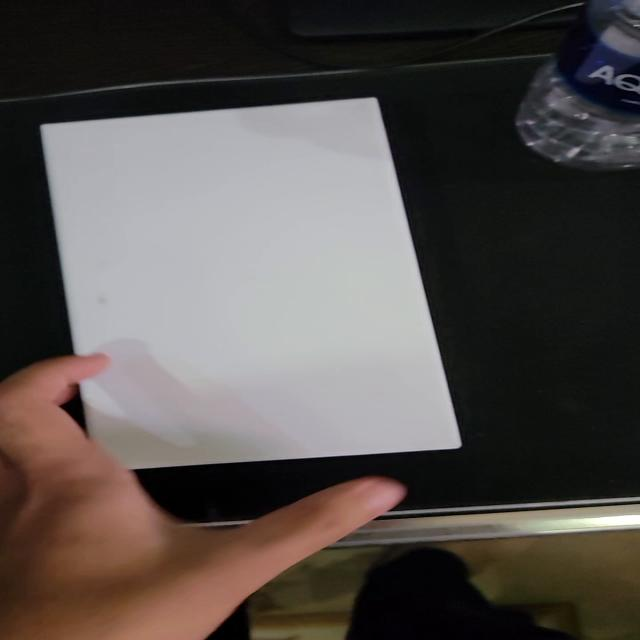Organik: (31, 91, 467, 488)
